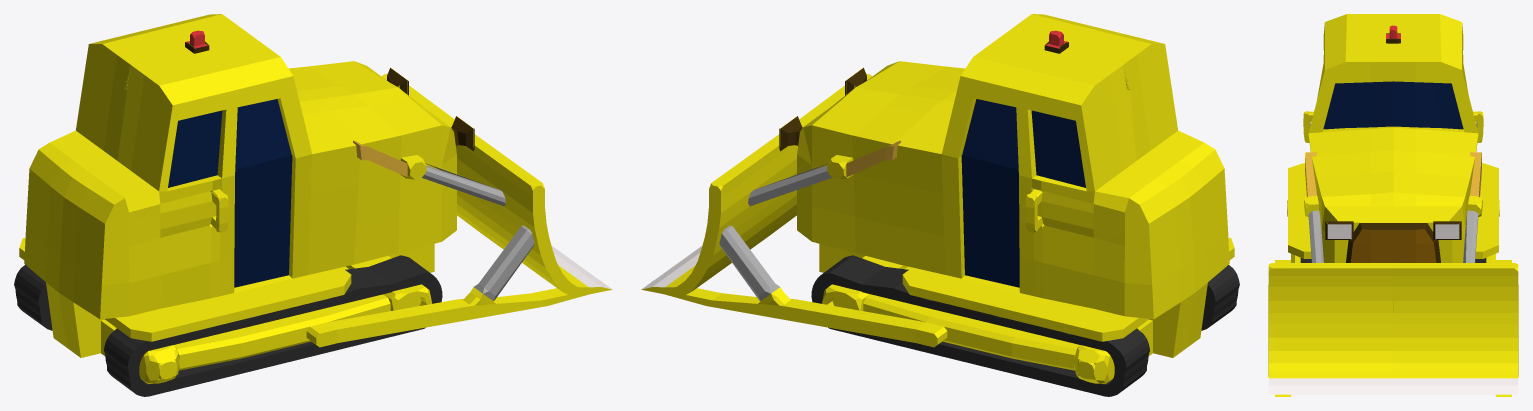
The model's file is Bulldozer.fbx.
The picture shows the model from 3 angles, left to right: view 1: azimuth 30°, elevation 25°; view 2: azimuth 150°, elevation 25°; view 3: azimuth 270°, elevation 25°; orthographic projection. The views are drawn at different scales.
Visible parts, largest first — view 1: Cube, Cylinder; view 2: Cube, Cylinder; view 3: Cube.
Boxes of the visible parts, x1,y1,x2,y2 form: Cube: (19, 14, 612, 383); Cylinder: (14, 255, 442, 396); Cube: (641, 14, 1234, 383); Cylinder: (811, 255, 1239, 396); Cube: (1268, 14, 1518, 396).
Size of the model in its own units: 2314 by 1366 by 1279.
